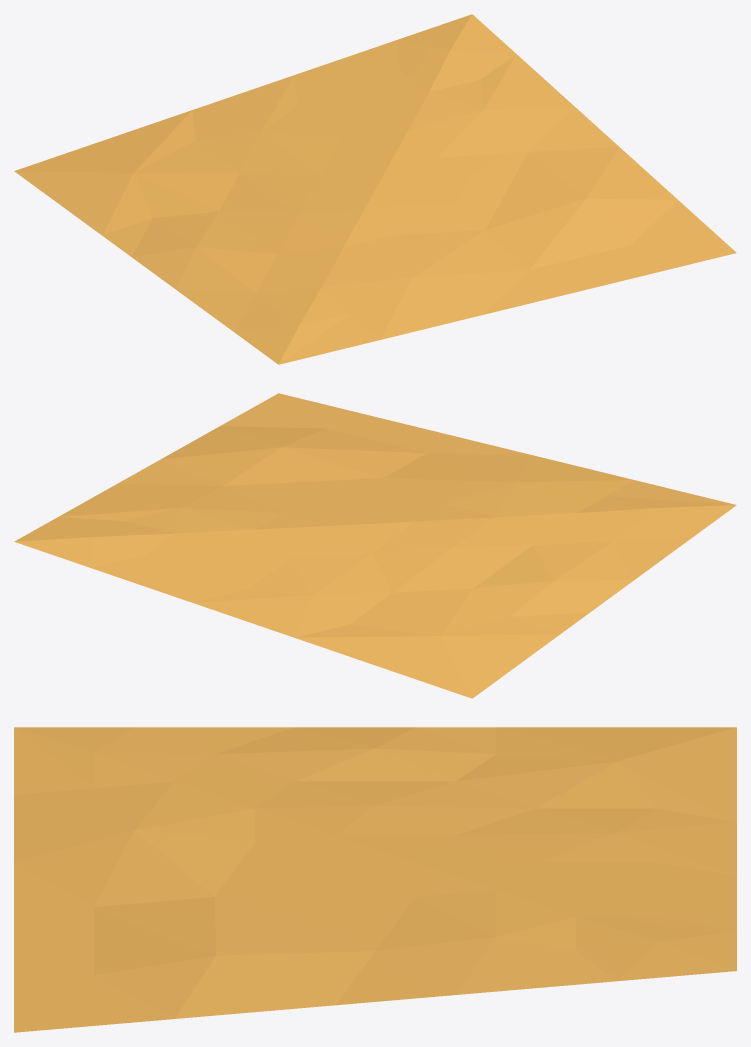
Rendered from Sand_03.fbx.
3 renders of one model, top to bottom at view 1: azimuth 30°, elevation 25°; view 2: azimuth 150°, elevation 25°; view 3: azimuth 270°, elevation 25°, orthographic. The views are drawn at different scales.
Parts seen in each view (by area): view 1: Sand_03; view 2: Sand_03; view 3: Sand_03.
Part boxes in pixels (left/top/right/bottom): Sand_03: left=14, top=14, right=736, bottom=364; Sand_03: left=14, top=393, right=736, bottom=698; Sand_03: left=14, top=727, right=736, bottom=1032.
Size of the model in its own units: 1200 by 113 by 1200.
